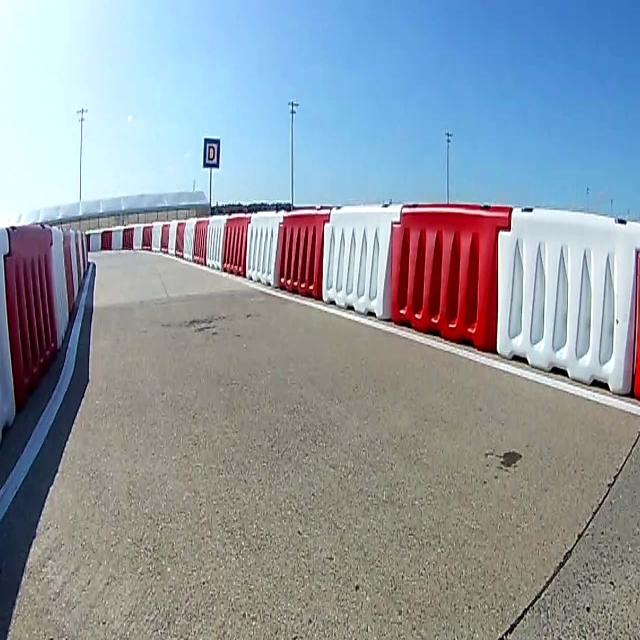durak: (202, 138, 220, 168)
